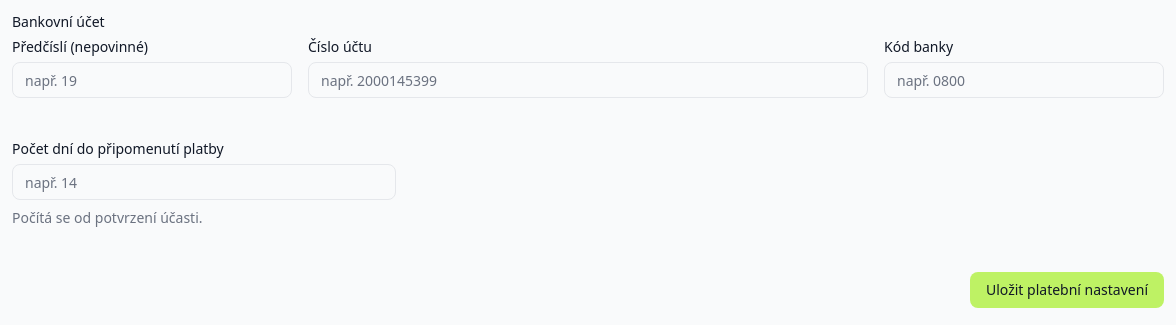
Test case: PaymentSettingsForm › requires the account number, bank code and reminder days
The width and height of the screenshot is (1176, 325).
Click the button "Uložit platební nastavení": point(1067, 290) [970,272,1164,308]
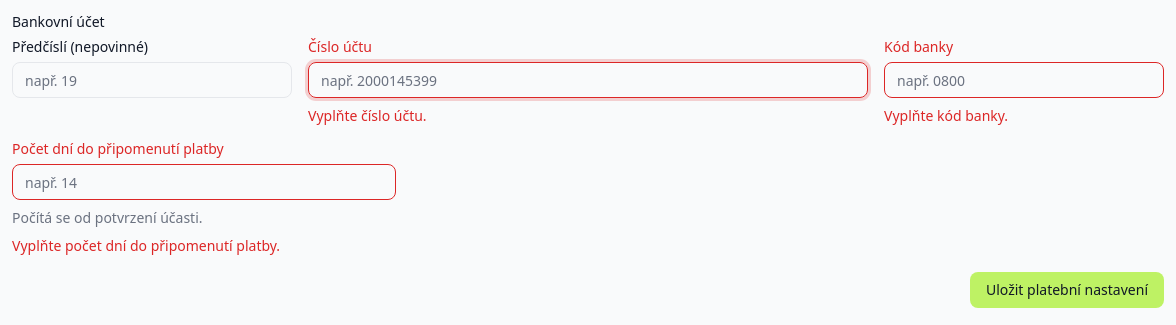
Now the text "Vyplňte číslo účtu." is shown, box [308,106,427,125]
Now the text "Vyplňte kód banky." is shown, box [884,106,1008,125]
Now the text "Vyplňte počet dní do připomenutí platby." is shown, box [12,236,280,255]
